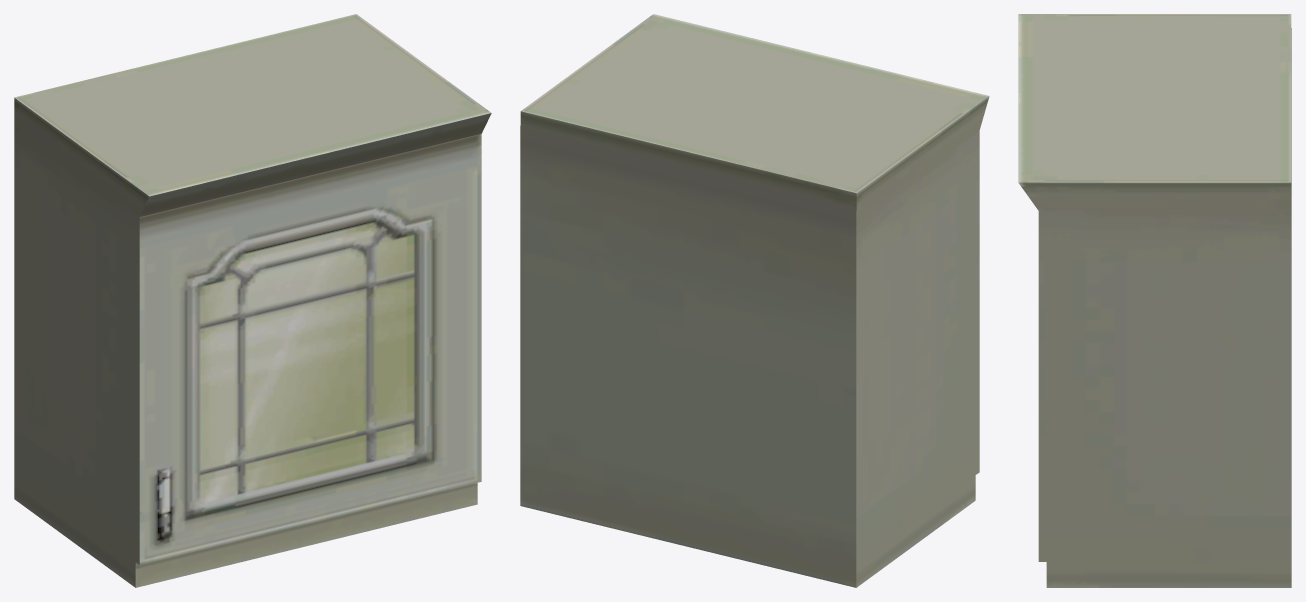
The model's file is furni_0200088_01.FBX.
3 renders of one model, left to right at view 1: azimuth 30°, elevation 25°; view 2: azimuth 150°, elevation 25°; view 3: azimuth 270°, elevation 25°, orthographic. The views are drawn at different scales.
Visible parts, largest first — view 1: furni_0200088_01; view 2: furni_0200088_01; view 3: furni_0200088_01.
Part boxes in pixels (box(x1,y1,x2,y2)): furni_0200088_01: box(14, 14, 491, 587); furni_0200088_01: box(520, 14, 989, 587); furni_0200088_01: box(1018, 14, 1291, 587).
Bounding box in the file's own units: 80.02 × 89.77 × 54.87.
1 material, 1 textured.
